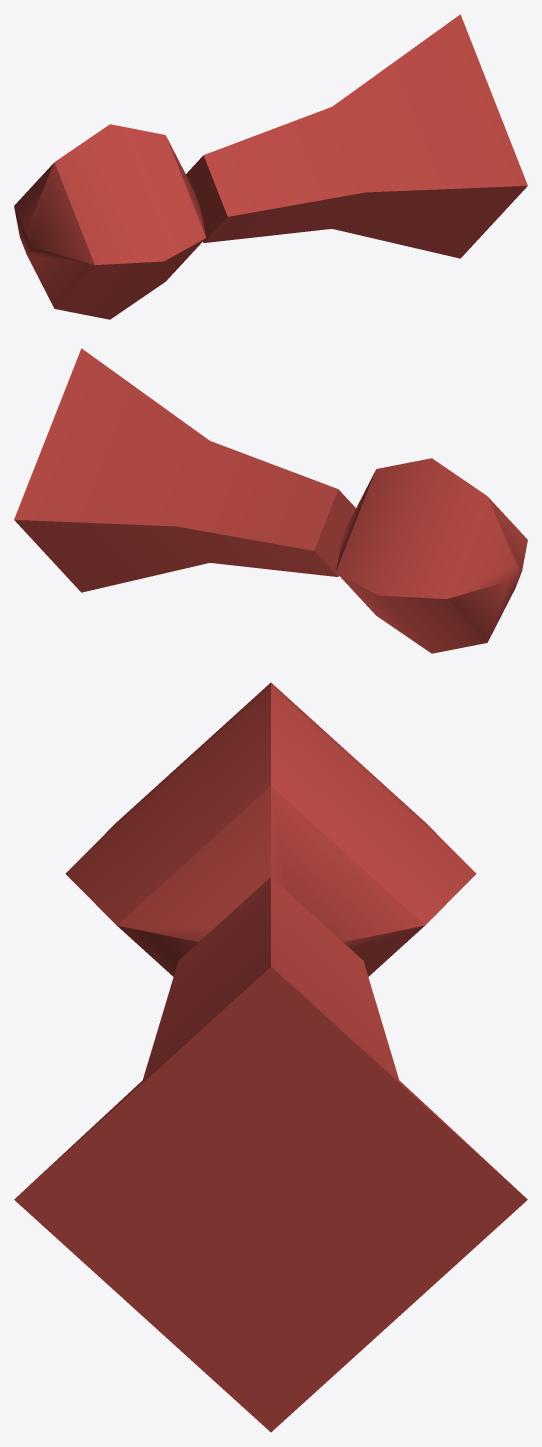
Rendered from klaxon_lod2.glb.
3 renders of one model, top to bottom at view 1: azimuth 30°, elevation 25°; view 2: azimuth 150°, elevation 25°; view 3: azimuth 270°, elevation 25°, orthographic. The views are drawn at different scales.
Parts seen in each view (by area): view 1: klaxon_lod2; view 2: klaxon_lod2; view 3: klaxon_lod2.
Part boxes in pixels (box(x1,y1,x2,y2)): klaxon_lod2: box(14, 14, 527, 319); klaxon_lod2: box(14, 348, 527, 653); klaxon_lod2: box(14, 682, 527, 1432).
Bounding box in the file's own units: 0.1857 × 0.1 × 0.1.
